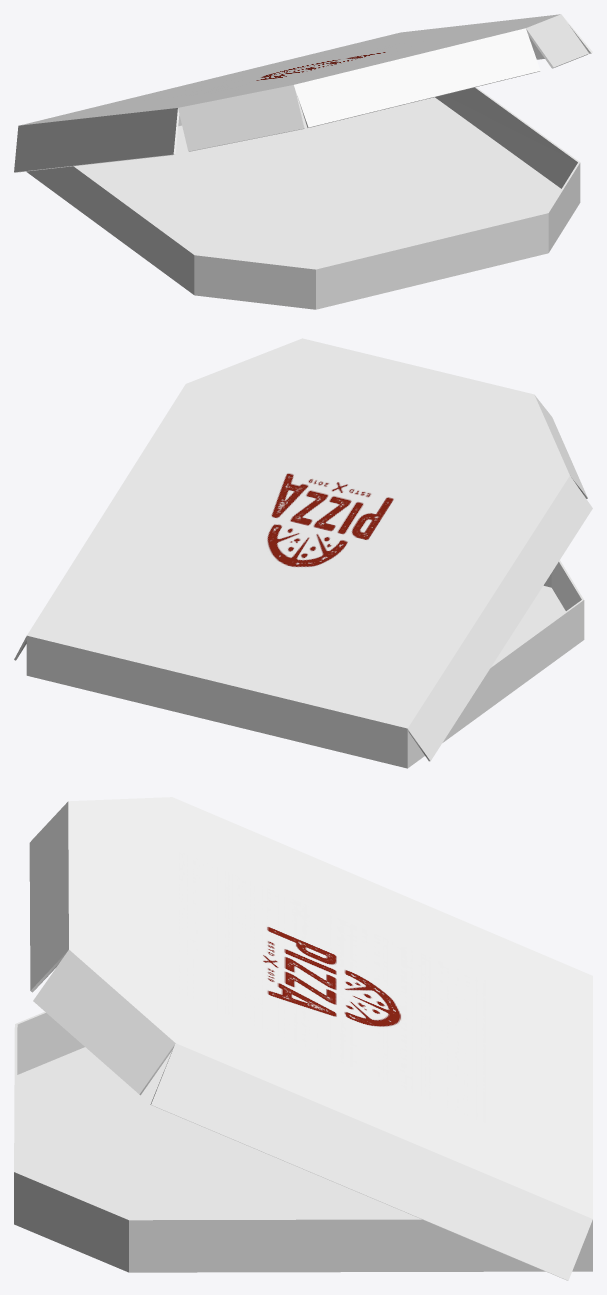
Rendered from PizzaFinal.fbx.
3 renders of one model, top to bottom at view 1: azimuth 30°, elevation 25°; view 2: azimuth 150°, elevation 25°; view 3: azimuth 270°, elevation 25°, orthographic. The views are drawn at different scales.
Visible parts, largest first — view 1: Line001; view 2: Line001; view 3: Line001.
Part boxes in pixels (box(x1,y1,x2,y2)): Line001: box(14, 14, 592, 309); Line001: box(14, 338, 592, 768); Line001: box(14, 797, 592, 1280).
Size of the model in its own units: 109 by 52.29 by 100.
Materials: 1 (1 with a texture image).
